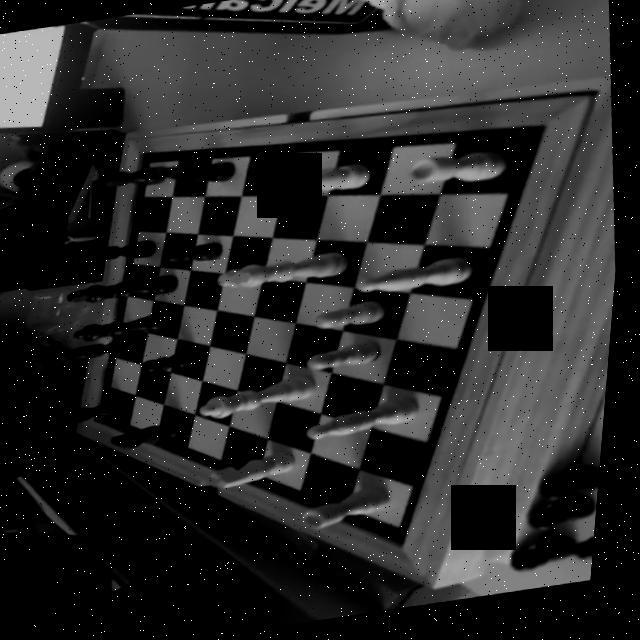chess-table-corners: (382, 532, 427, 558), (522, 116, 560, 146), (128, 144, 156, 162), (87, 412, 109, 428)
